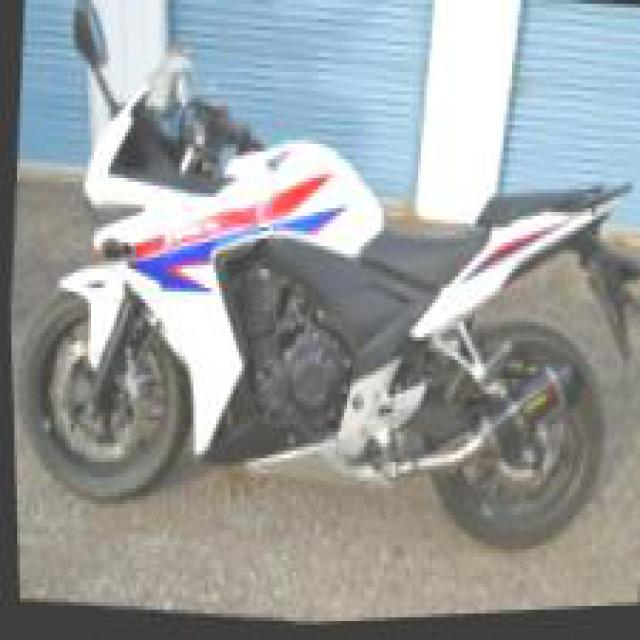CBR500R: (0, 11, 637, 602)
